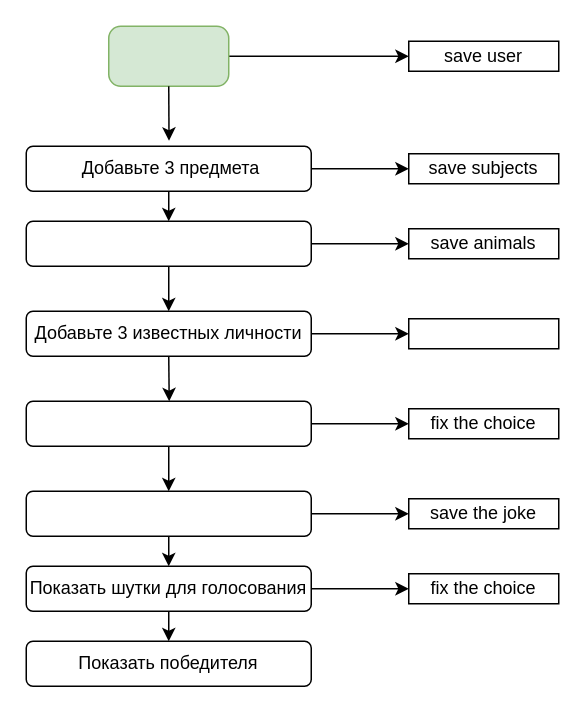
The diagram is 585 pixels wide and 713 high, and some of its shapes have lost their labels. The centre of each missing label's shape, as x and y in pixels:
"/start" belongs at (x=168, y=55).
"save celebs" belongs at (x=483, y=333).
"Добавьте 3 животных" belongs at (x=168, y=243).
"Показать 2 шаблона шутки" belongs at (x=168, y=423).
"Показать шутку со вставленным словом" belongs at (x=168, y=513).
